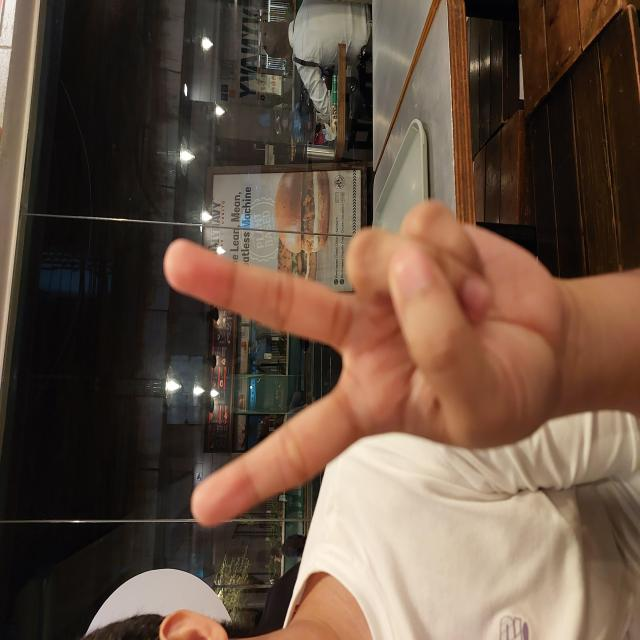V: (109, 163, 444, 571)
